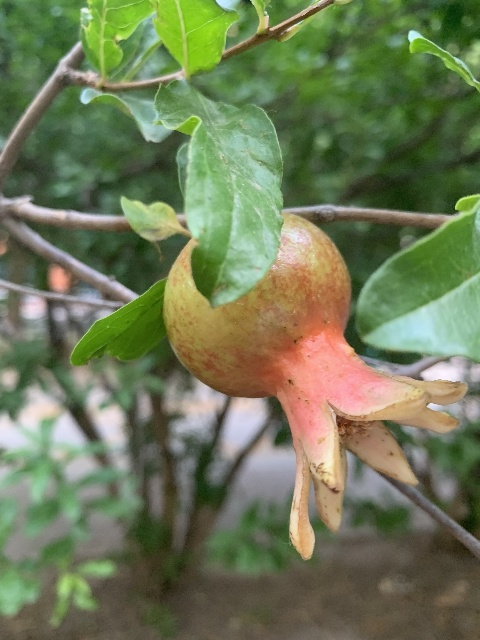early-fruit: (164, 212, 466, 560)
